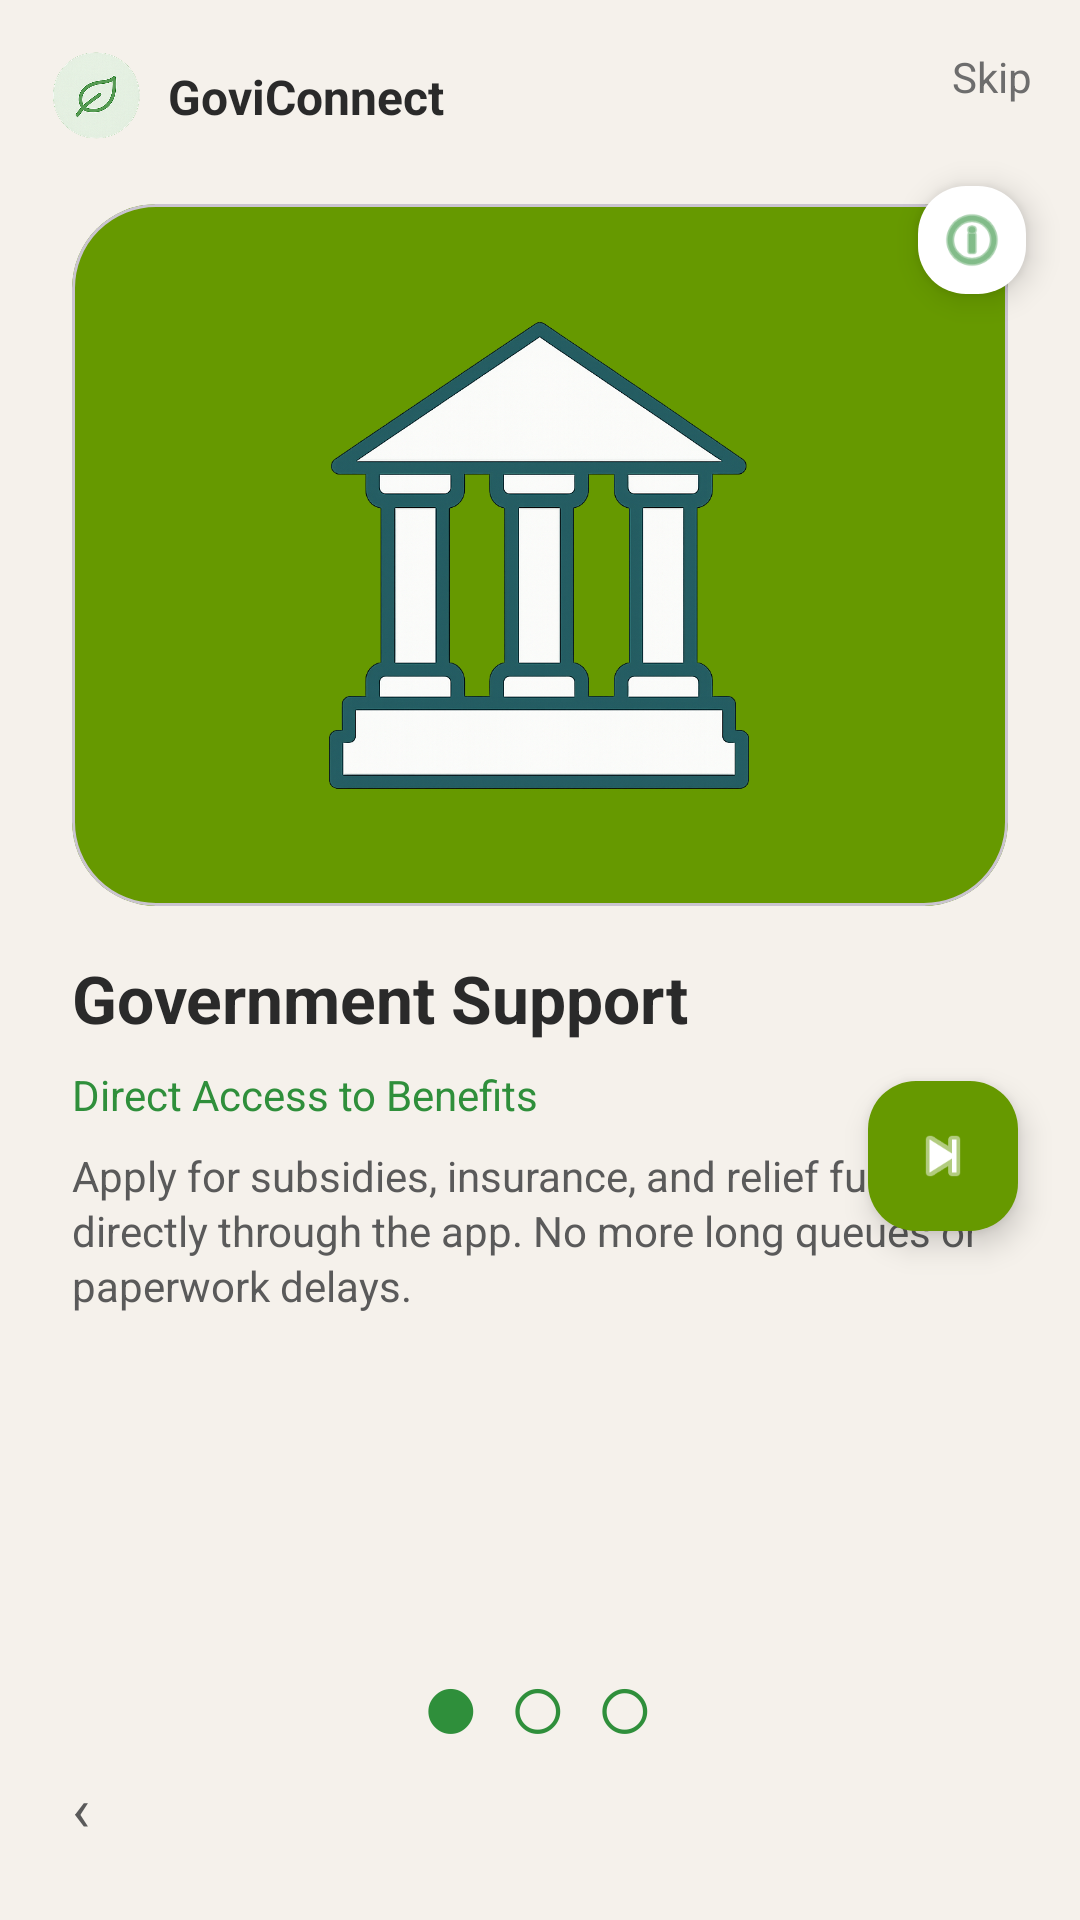

Where icons sit on this 1080×1920 app screen, as (x1, y1, x2, y2):
Next: (868, 1081, 1018, 1231)
